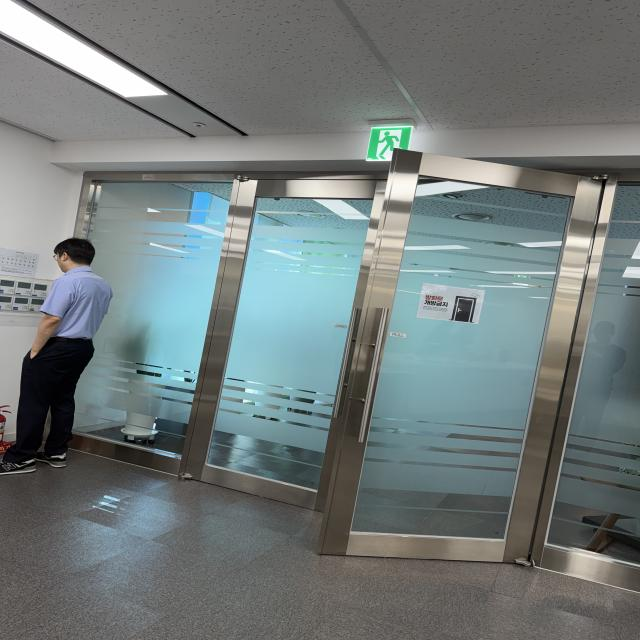front_door: (39, 171, 640, 595)
